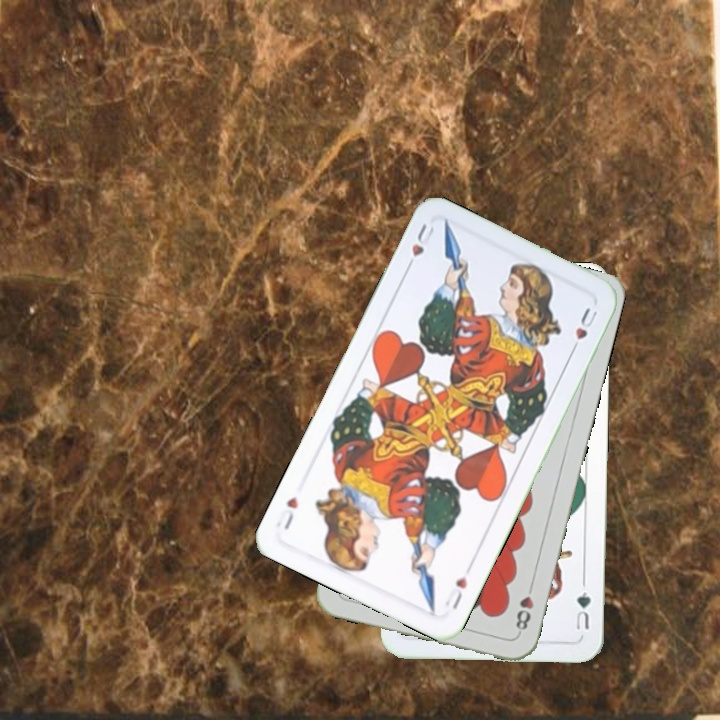GU: (571, 587, 593, 632)
H8: (511, 578, 536, 637)
HU: (401, 218, 437, 274), (441, 572, 470, 613)
